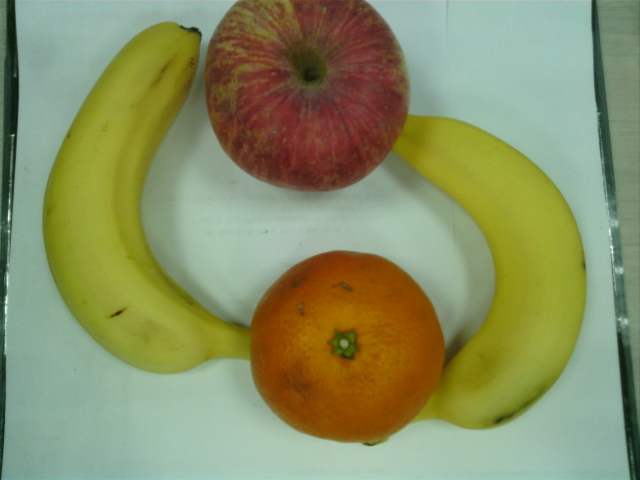normal_apple: (206, 1, 411, 193)
normal_banana: (42, 21, 251, 374), (393, 115, 587, 431)
normal_orange: (250, 251, 445, 442)
